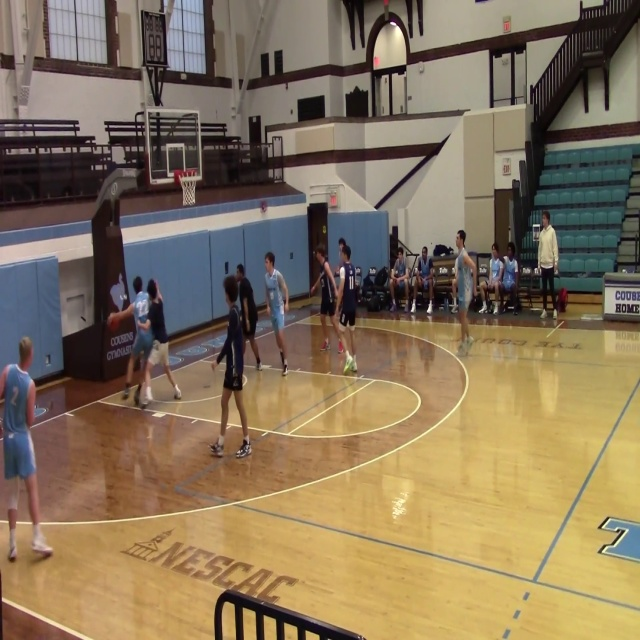Basketball: (223, 274, 238, 301), (107, 312, 120, 331)
